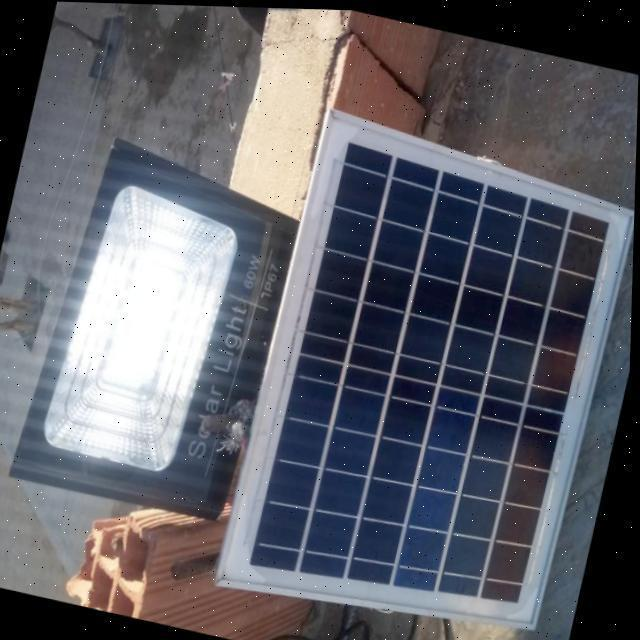Normal Solar Panel: (218, 101, 638, 640)
